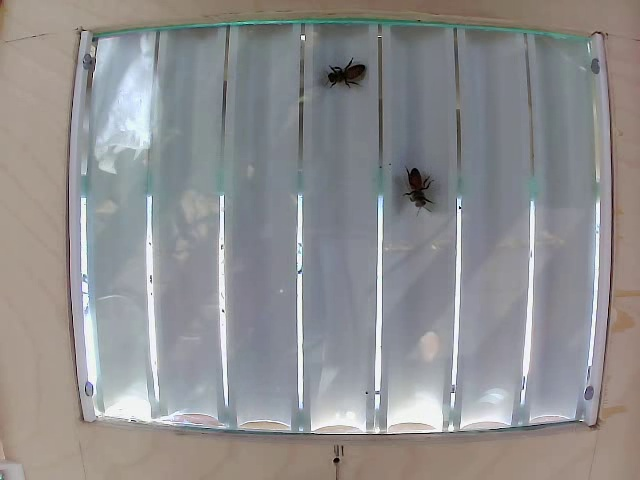bee: (402, 176, 435, 221), (338, 61, 371, 104)
